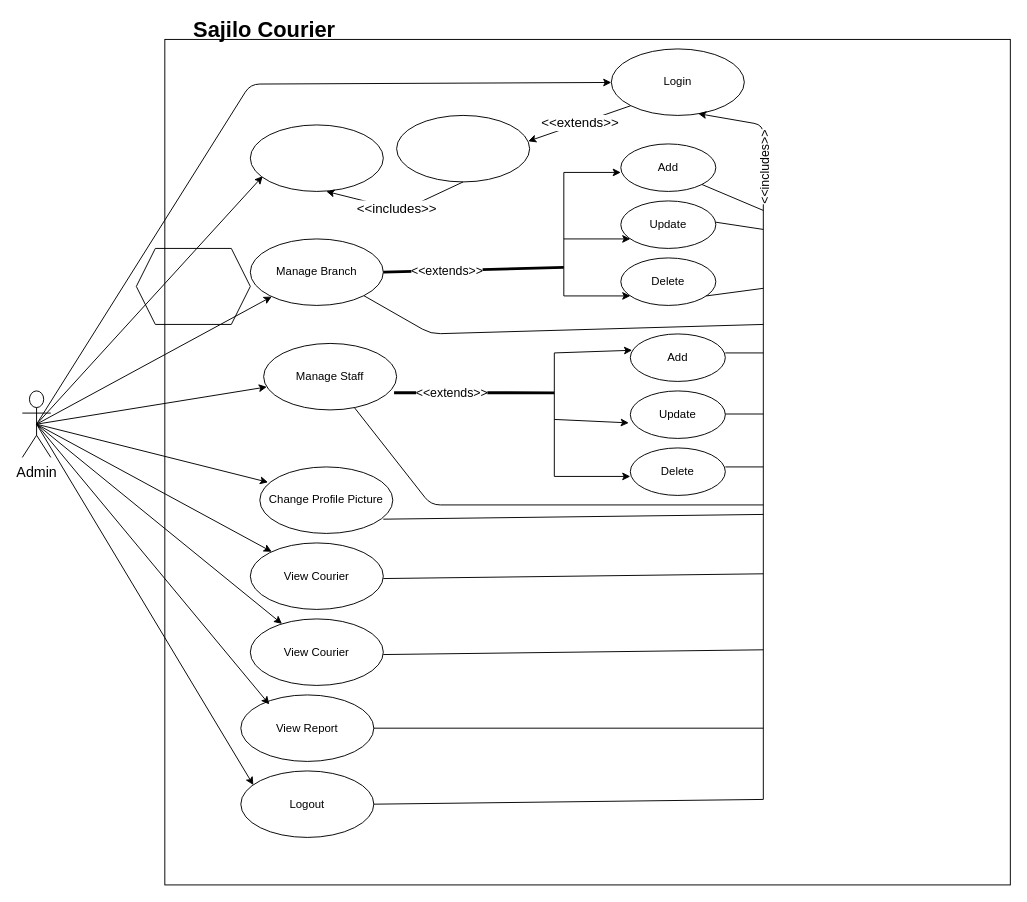
The diagram is 1027 pixels wide and 902 high, and some of its shapes have lost their labels. The shapes that lost their labels are listed below. From the top down, each one's box as (x1, y1, x2, y2) in pixels, then its label:
(249, 124, 383, 191): Change Password
(396, 114, 530, 182): Forgot password
